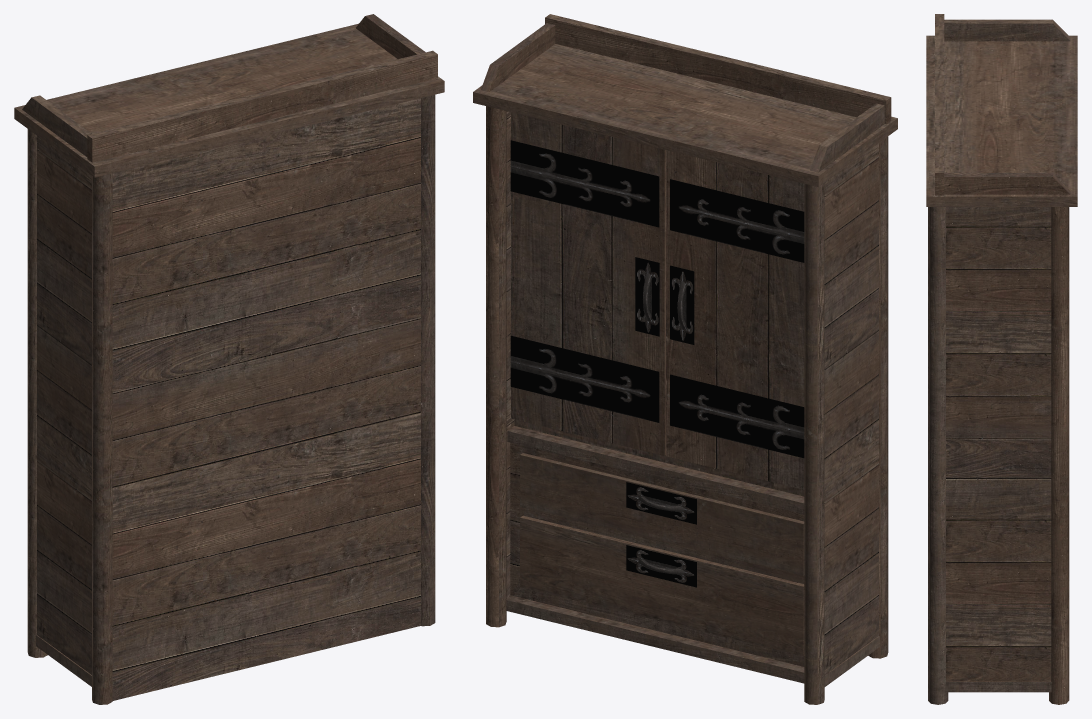
The model's file is mw_wardrobe_02.FBX.
3 views of the same model, side by side, from view 1: azimuth 30°, elevation 25°; view 2: azimuth 150°, elevation 25°; view 3: azimuth 270°, elevation 25° (orthographic). The views are drawn at different scales.
Visible parts, largest first — view 1: mw_wardrobe_02; view 2: mw_wardrobe_02; view 3: mw_wardrobe_02.
Part boxes in pixels (x1=…): mw_wardrobe_02: x1=14, y1=14, x2=444, y2=704; mw_wardrobe_02: x1=473, y1=14, x2=897, y2=704; mw_wardrobe_02: x1=926, y1=14, x2=1077, y2=704.
Size of the model in its own units: 171 by 264 by 68.05.
